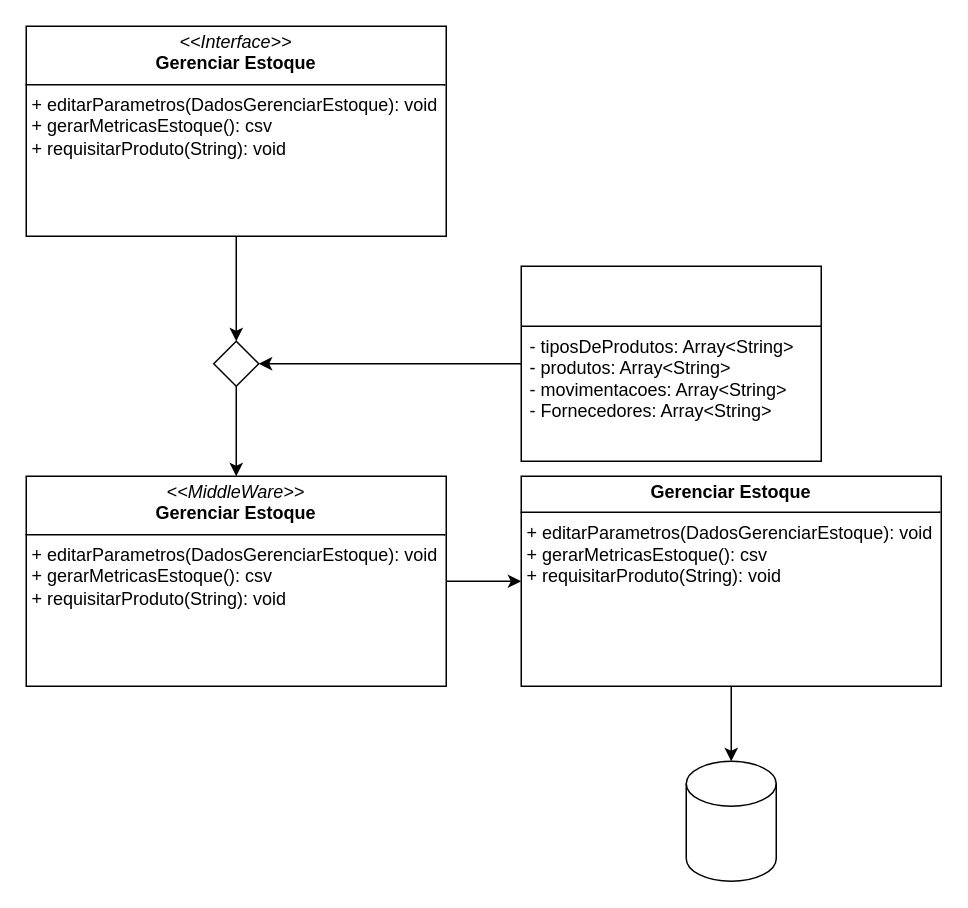
This 968x908 diagram has some shape labels left out. Here are the shapes that lost their labels. From the top down, the box of each, then its label:
(520, 265, 821, 461): <<mensagem>> DadosGerenciarEstoque
(685, 760, 776, 881): BD
